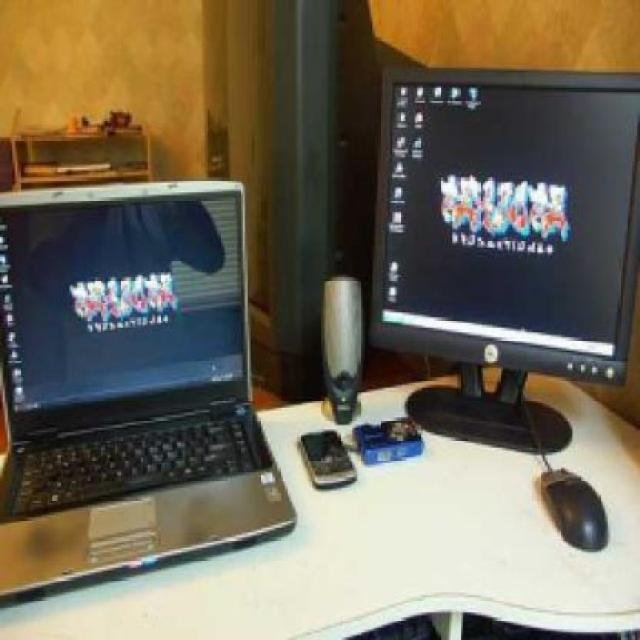mause: (526, 465, 626, 560)
